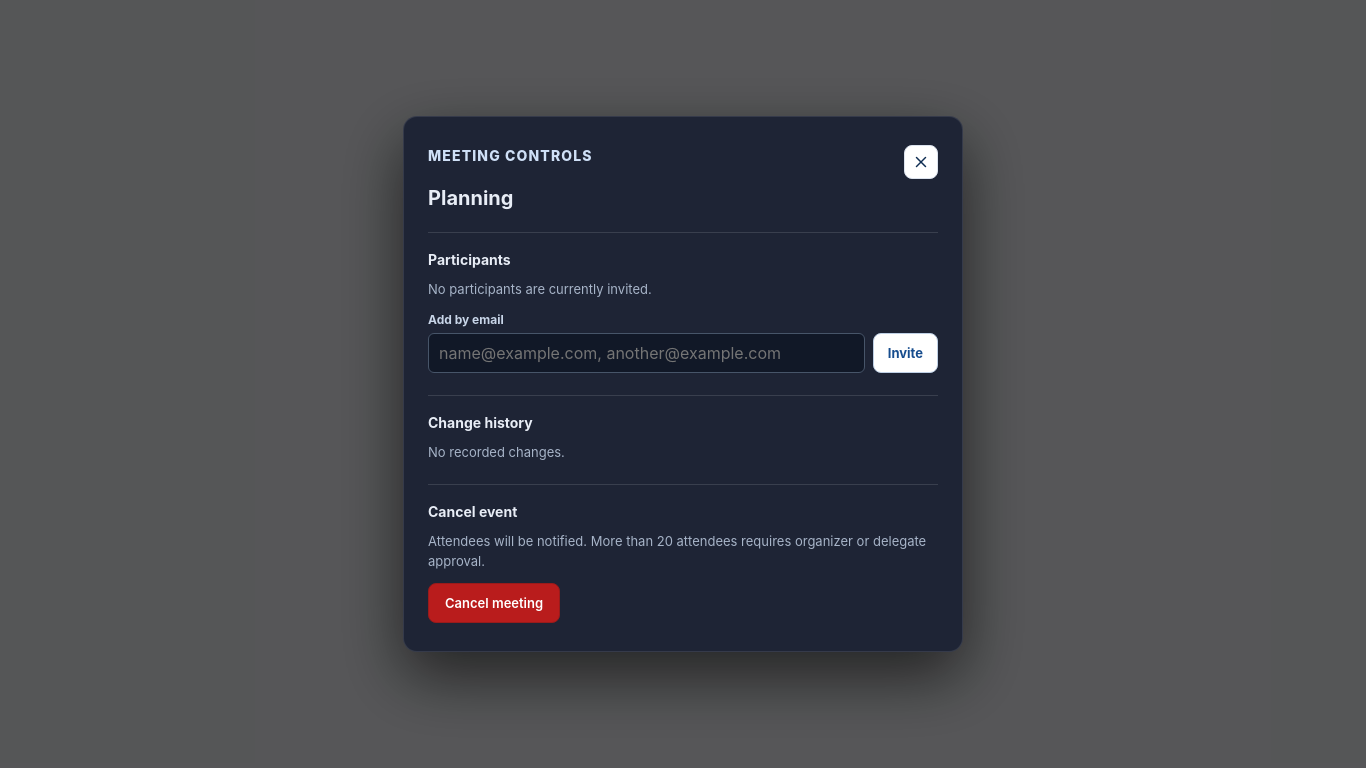
MeetingManageDialog audit history › refreshes the audit history after adding a participant
The width and height of the screenshot is (1366, 768).
Expected: the text "No recorded changes." is shown, [428, 444, 565, 460]
Type "guest@example.test" into the field labelled "Add by email".
click(646, 352); type("guest@example.test")  # box [428, 332, 865, 372]
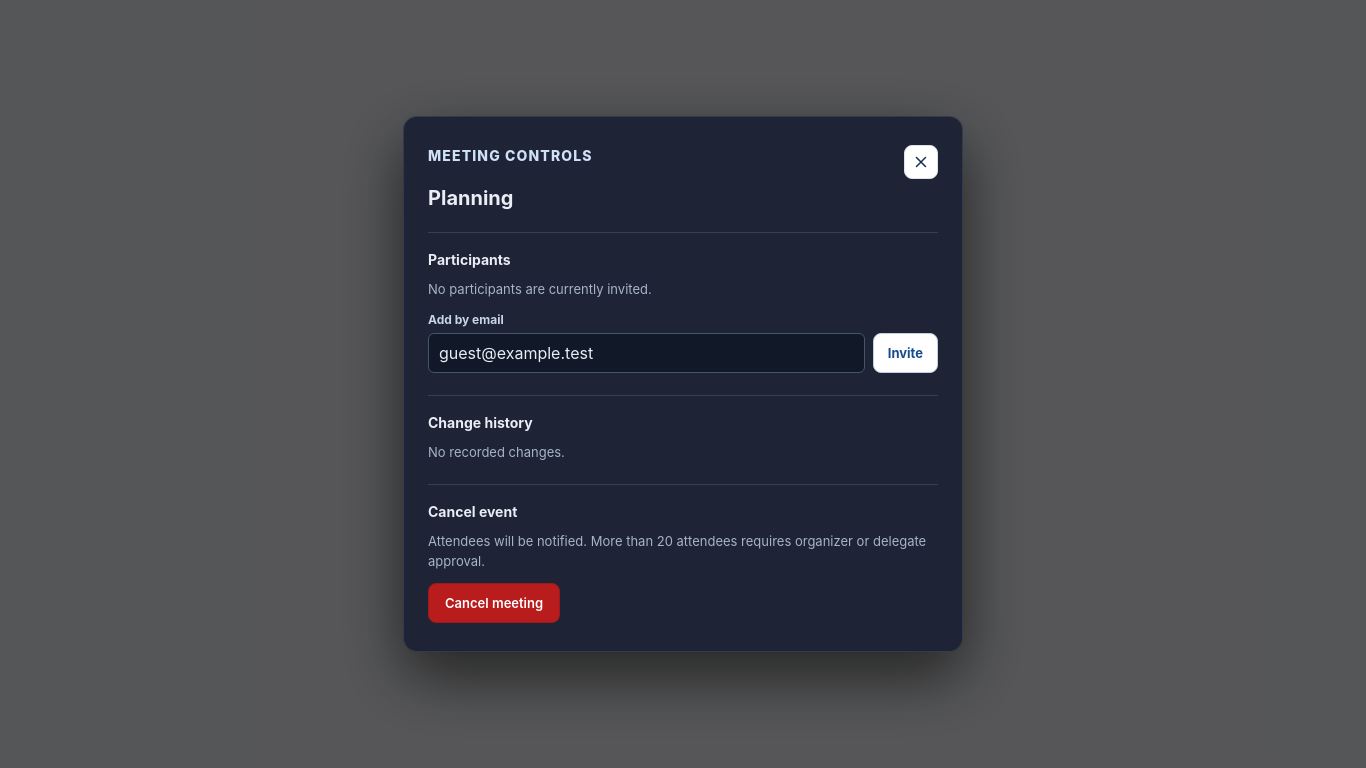
Click the button "Invite".
click(905, 352)  # box [873, 332, 938, 372]
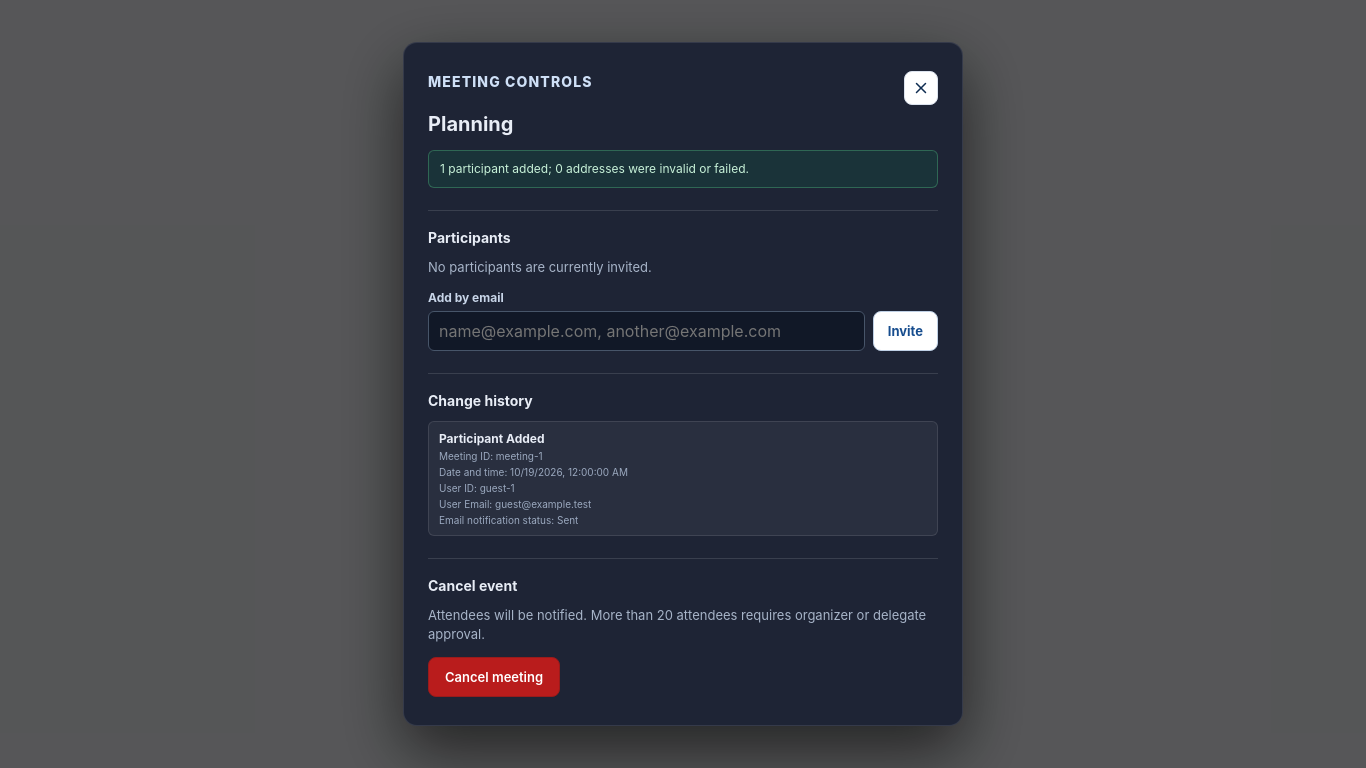
Now the text "1 participant added; 0 addresses were invalid or failed." is shown, box [428, 150, 938, 188]
Now the text "Participant Added" is shown, box [439, 431, 545, 446]
Now the text "Meeting ID: meeting-1" is shown, box [439, 450, 543, 462]
